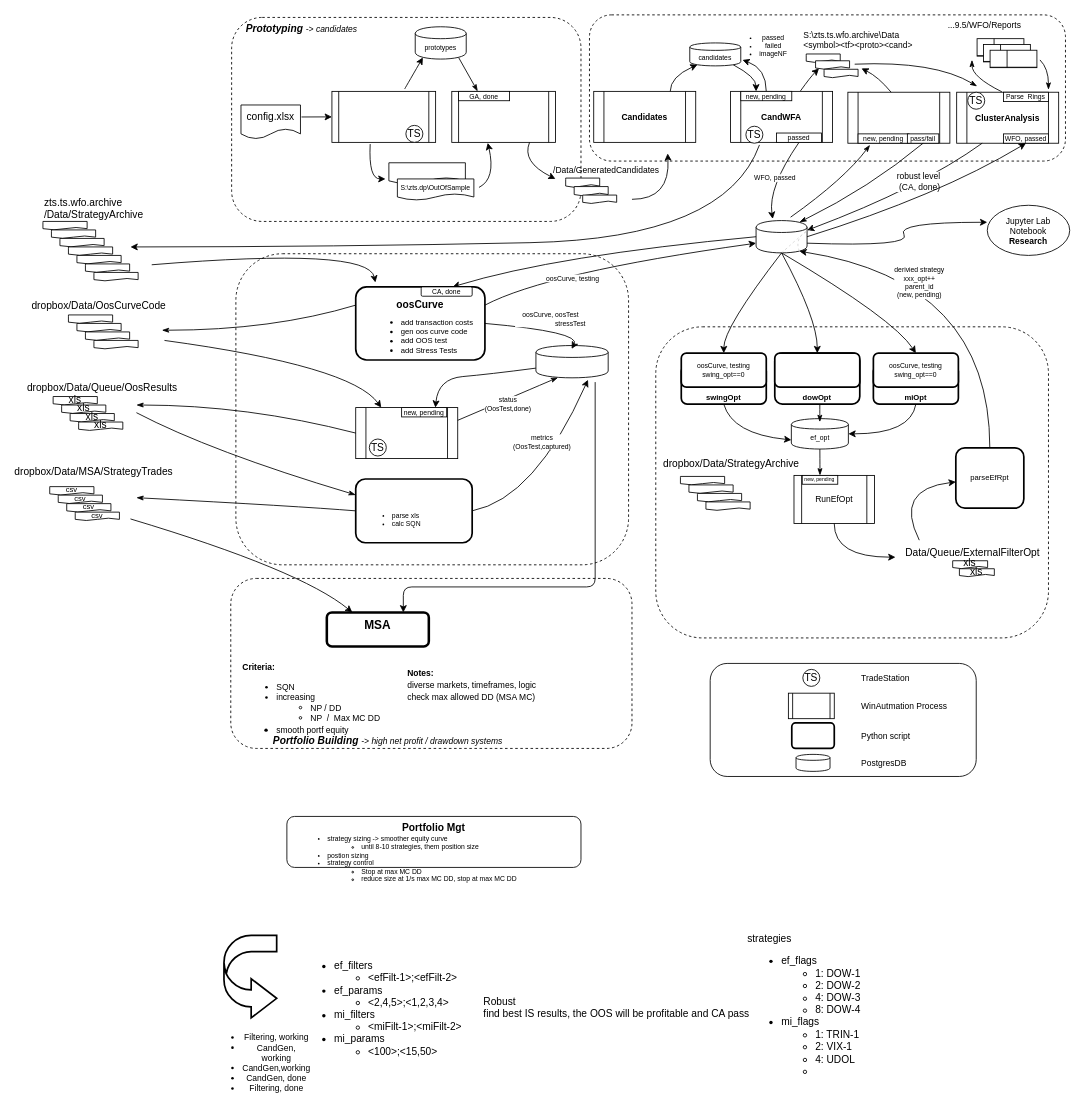
Image size: 1085x1117. Some labels were removed from this diagram. The box of each missing label's shape, as (x1, y1, x2, y2) in pixels:
captureData: (354, 478, 473, 543)
External Filters -> swing strategies & optimized intra-day strategies: (655, 326, 1048, 638)
Legend :: (709, 663, 976, 776)
oos_tests: (535, 345, 608, 378)
oosCurve, testing swing_opt==0 equity index robust_level: (774, 352, 860, 388)
Out Of Sample & Stress Tests -> OOS performance numbers: (235, 253, 629, 565)
ProtoFilter: (451, 91, 555, 142)
Prototype: (331, 91, 436, 142)
RunOosTest: (355, 407, 458, 459)
S:\zts.dp\InSample: (388, 162, 465, 184)
strategies: (755, 220, 807, 253)
StrategyWFA: (847, 91, 950, 143)
Validate -> Robust Strategies: (589, 14, 1065, 161)
